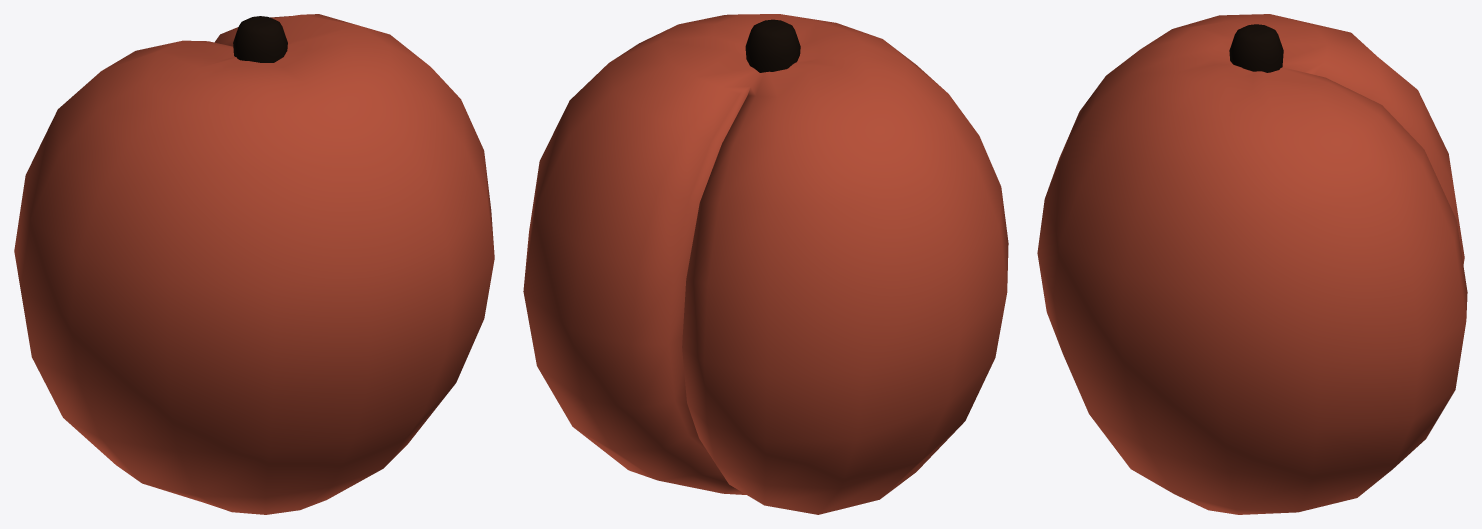
File: Apricot.FBX
The picture shows the model from 3 angles, left to right: view 1: azimuth 30°, elevation 25°; view 2: azimuth 150°, elevation 25°; view 3: azimuth 270°, elevation 25°; orthographic projection.
Parts seen in each view (by area): view 1: Apricot; view 2: Apricot; view 3: Apricot.
Boxes of the visible parts, x1,y1,x2,y2 form: Apricot: (14, 14, 494, 514); Apricot: (523, 14, 1008, 514); Apricot: (1037, 14, 1467, 514).
Size of the model in its own units: 1061 by 940 by 1114.
